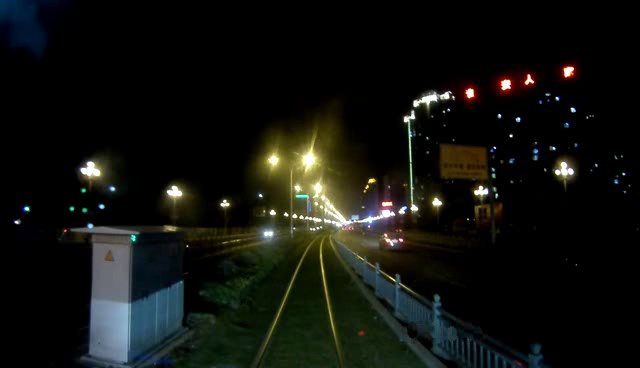car: (376, 230, 415, 253)
